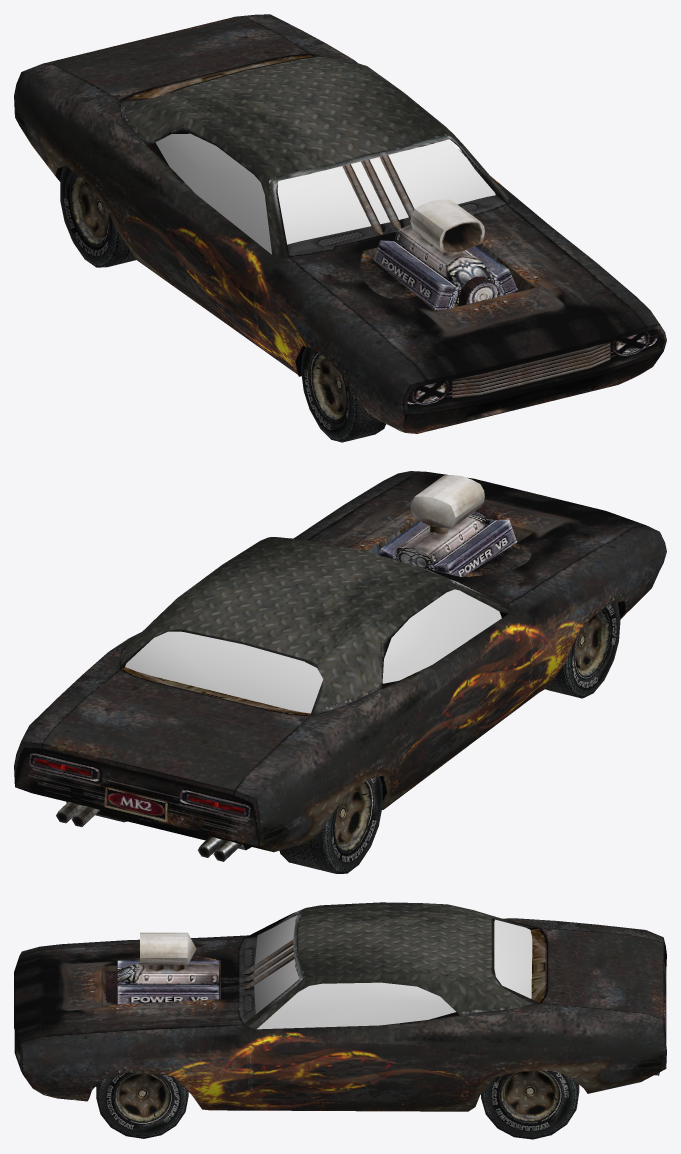
3 views of the same model, one above another, from view 1: azimuth 30°, elevation 25°; view 2: azimuth 150°, elevation 25°; view 3: azimuth 270°, elevation 25° (orthographic). The views are drawn at different scales.
Visible parts, largest first — view 1: body, Box001, wheel_04, wheel_03; view 2: body, Box001, wheel_03, wheel_04; view 3: body, Box001, wheel_02, wheel_01.
Part boxes in pixels (<box>): body: <box>14,14,666,433</box>; Box001: <box>155,133,495,254</box>; wheel_04: <box>301,347,385,442</box>; wheel_03: <box>60,166,135,267</box>; body: <box>14,471,666,861</box>; Box001: <box>125,589,501,713</box>; wheel_03: <box>279,776,382,873</box>; wheel_04: <box>545,602,620,698</box>; body: <box>14,902,666,1111</box>; Box001: <box>253,915,532,1029</box>; wheel_02: <box>481,1071,579,1139</box>; wheel_01: <box>96,1073,188,1138</box>.
Size of the model in its own units: 5782 by 3742 by 14290.
Materials: 2 (2 with a texture image).
